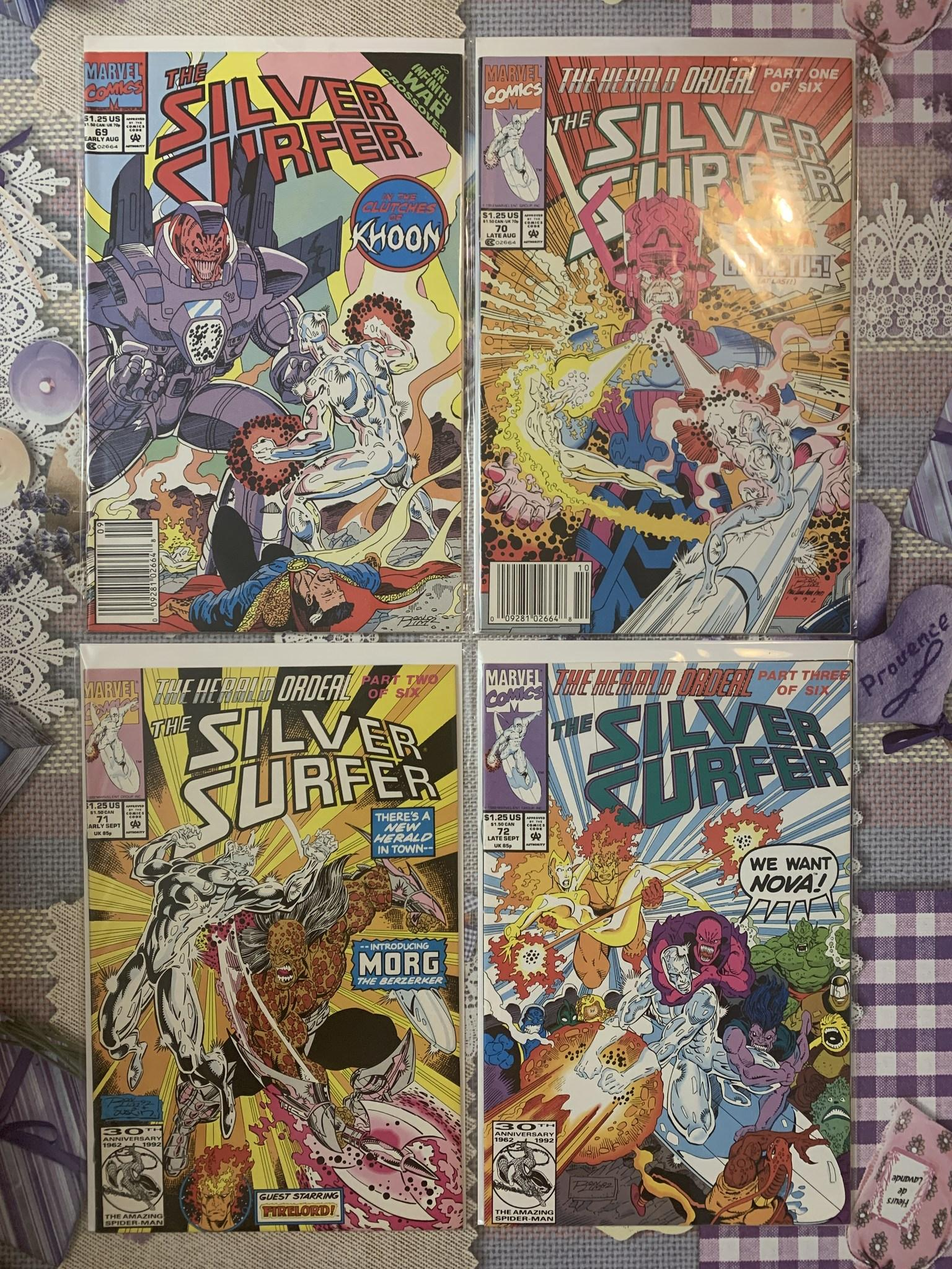comic: (83, 641, 465, 1233), (476, 40, 853, 636), (84, 39, 462, 632), (480, 641, 850, 1227)
